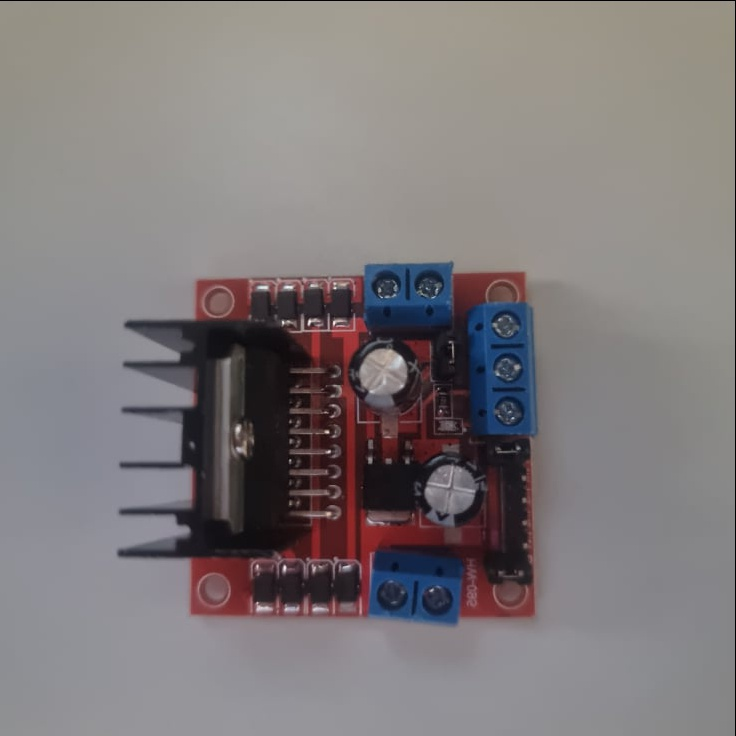MOTOR: (115, 261, 536, 625)
